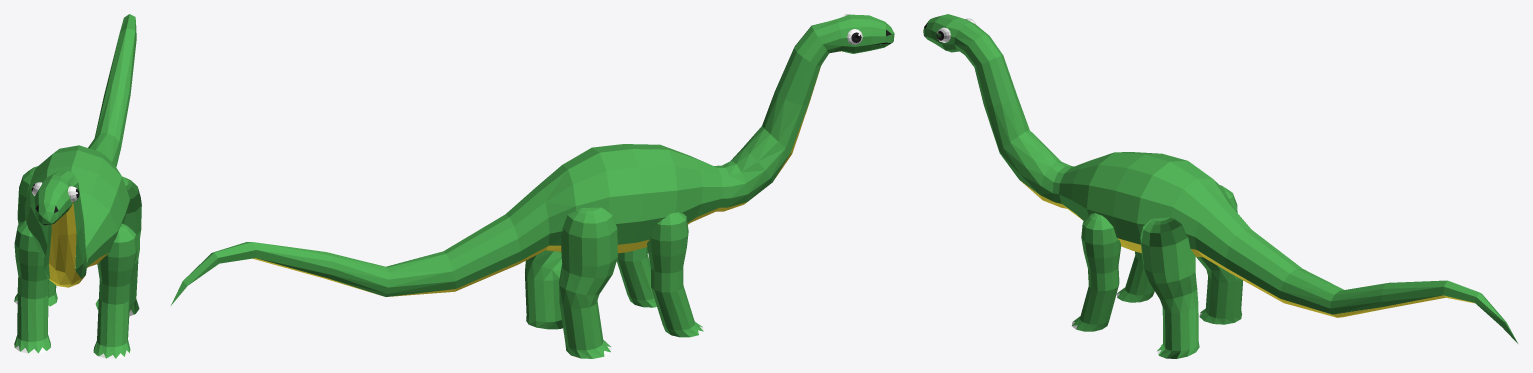
The model's file is dinosaur.glb.
The picture shows the model from 3 angles, left to right: view 1: azimuth 30°, elevation 25°; view 2: azimuth 150°, elevation 25°; view 3: azimuth 270°, elevation 25°; orthographic projection. The views are drawn at different scales.
Visible parts, largest first — view 1: Node; view 2: Node; view 3: Node.
Boxes of the visible parts, left/top/right/bottom form: Node: left=14, top=14, right=141, bottom=358; Node: left=171, top=14, right=894, bottom=358; Node: left=923, top=14, right=1517, bottom=358.
Bounding box in the file's own units: 4.46 × 2.77 × 5.99.
